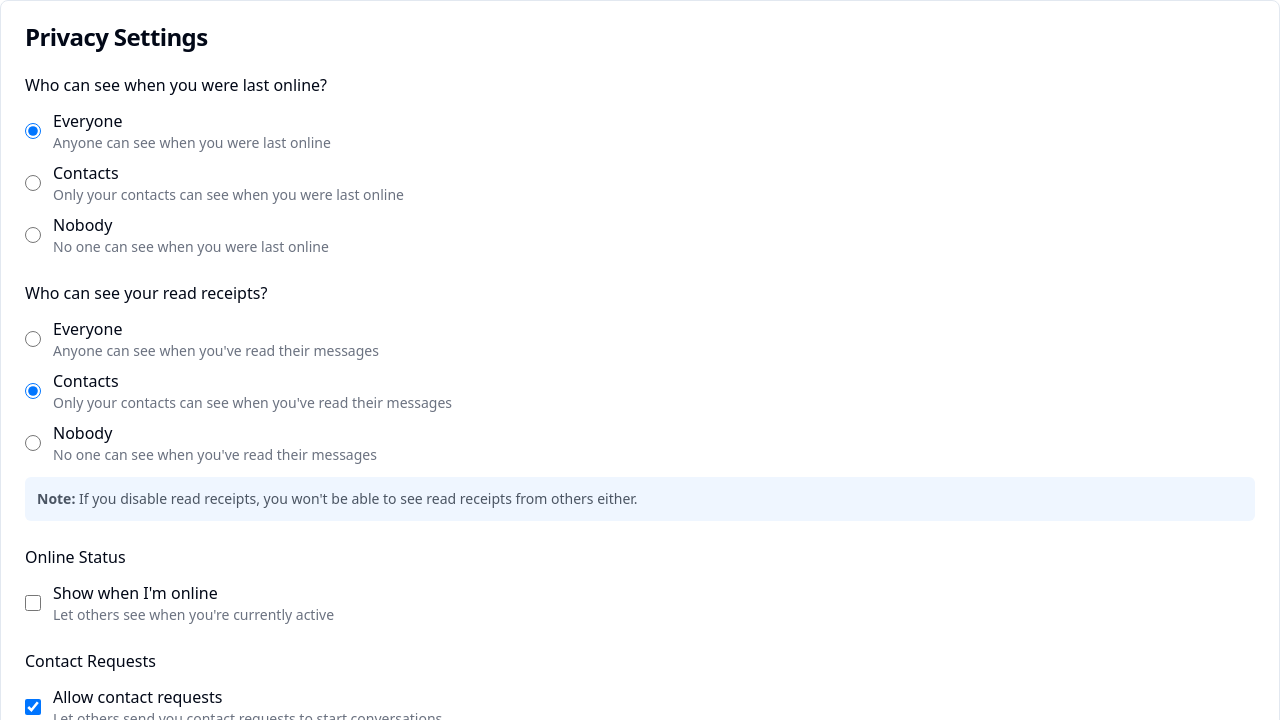
Test: PrivacySettings › resets form to original values
Note: Make changes
Click the radio button showing "nobody" at (33, 235), box [25,227,41,243]
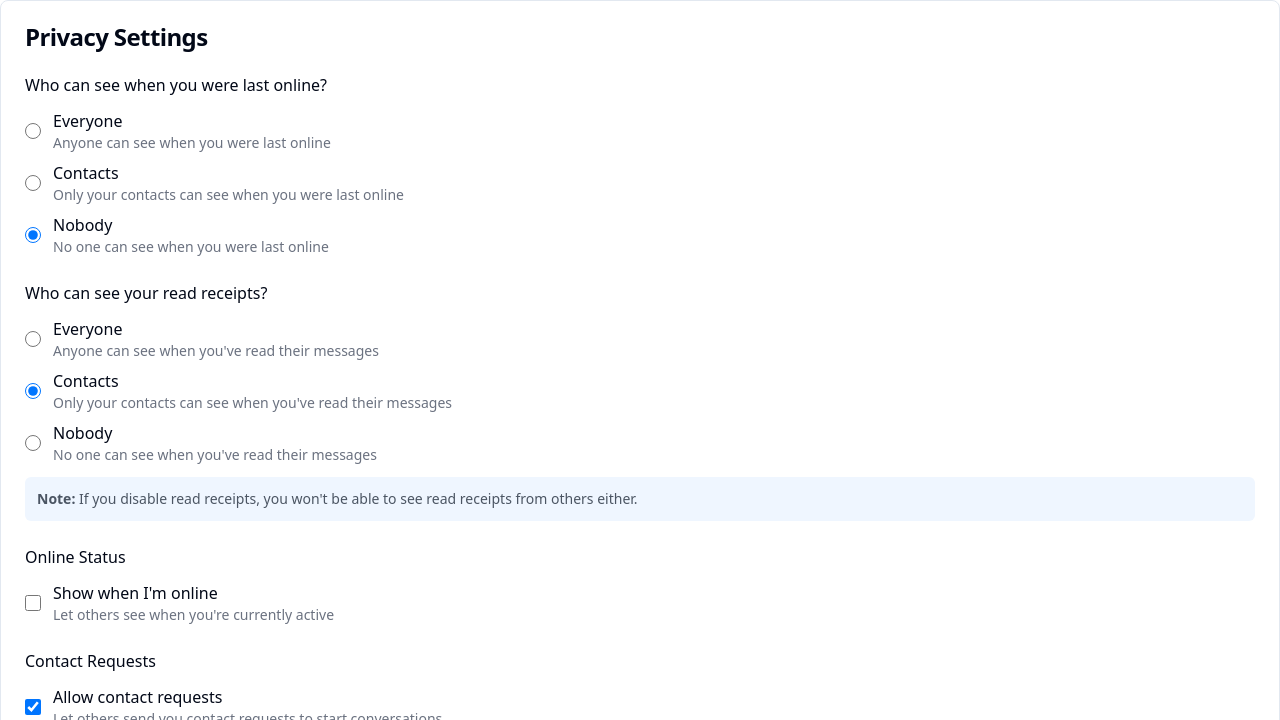
Click the checkbox labelled "Show when I'm online" at (33, 603), box [25,595,41,611]
(page scrolled)
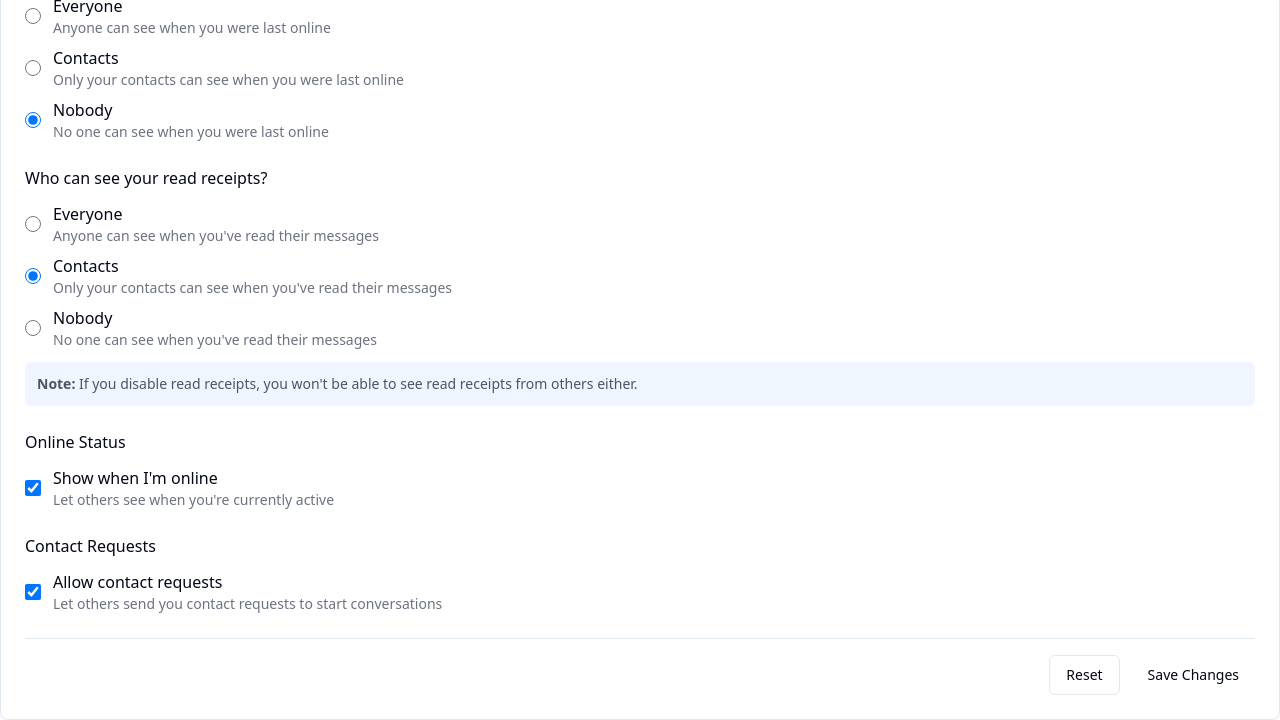
Click the button "Reset" at (1084, 675), box [1049,655,1120,695]
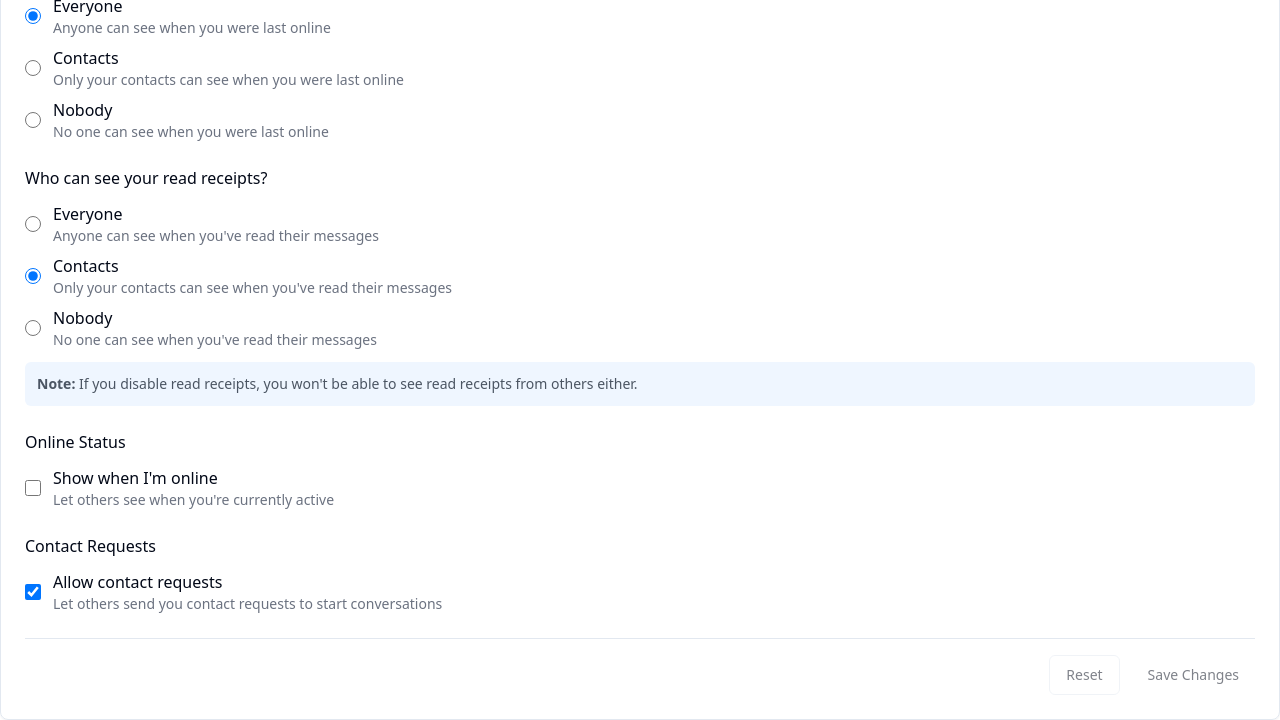
Check: the checkbox labelled "Show when I'm online" is not checked, box [25,480,41,496]
Check: the radio button showing "everyone" is checked, box [25,8,41,24]
